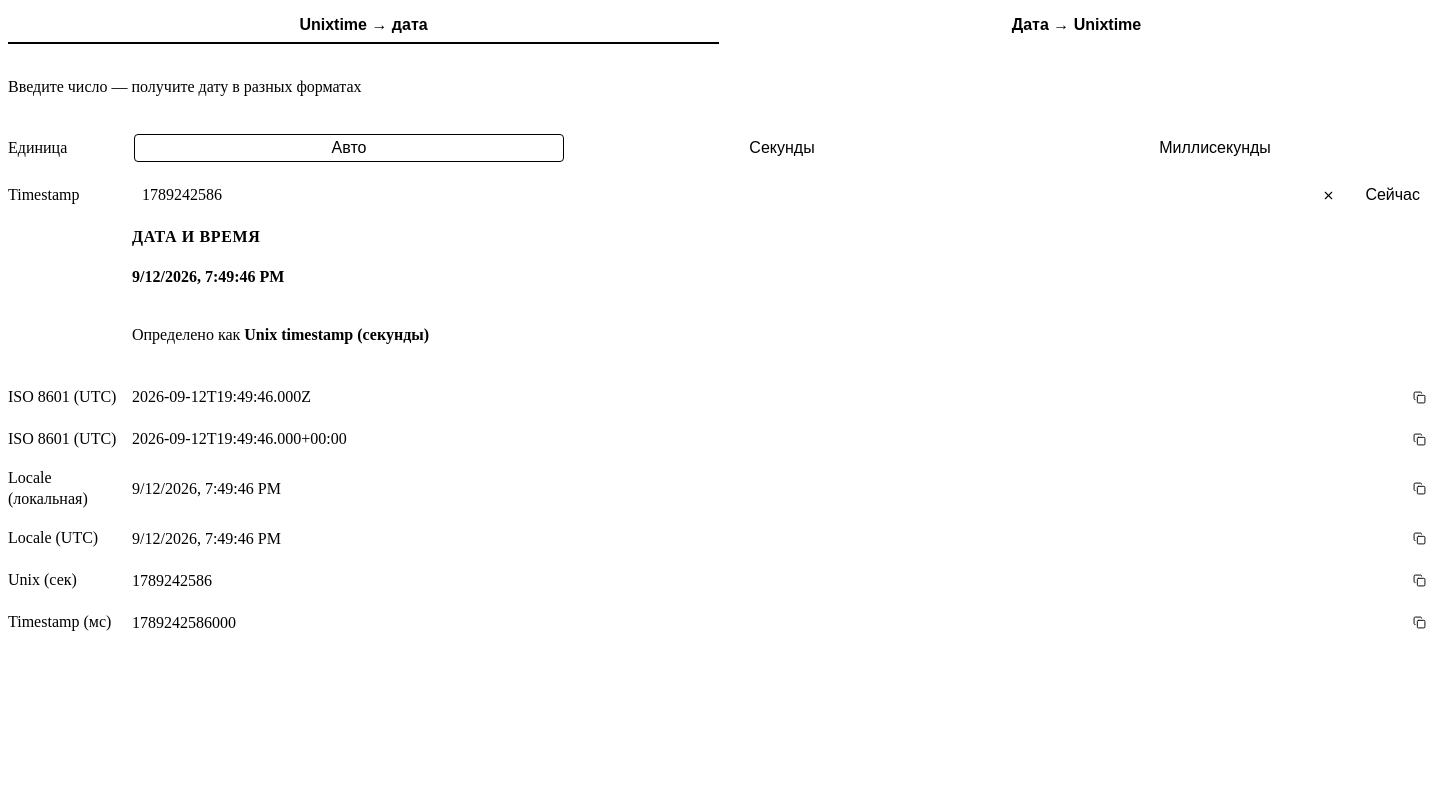
it: UnixtimeConverter › явный выбор единицы перебивает автоопределение
Step 1. Replace the text in the field named "Unix-время" with "1700000000" → [761, 195], box [132,178,1389,212]
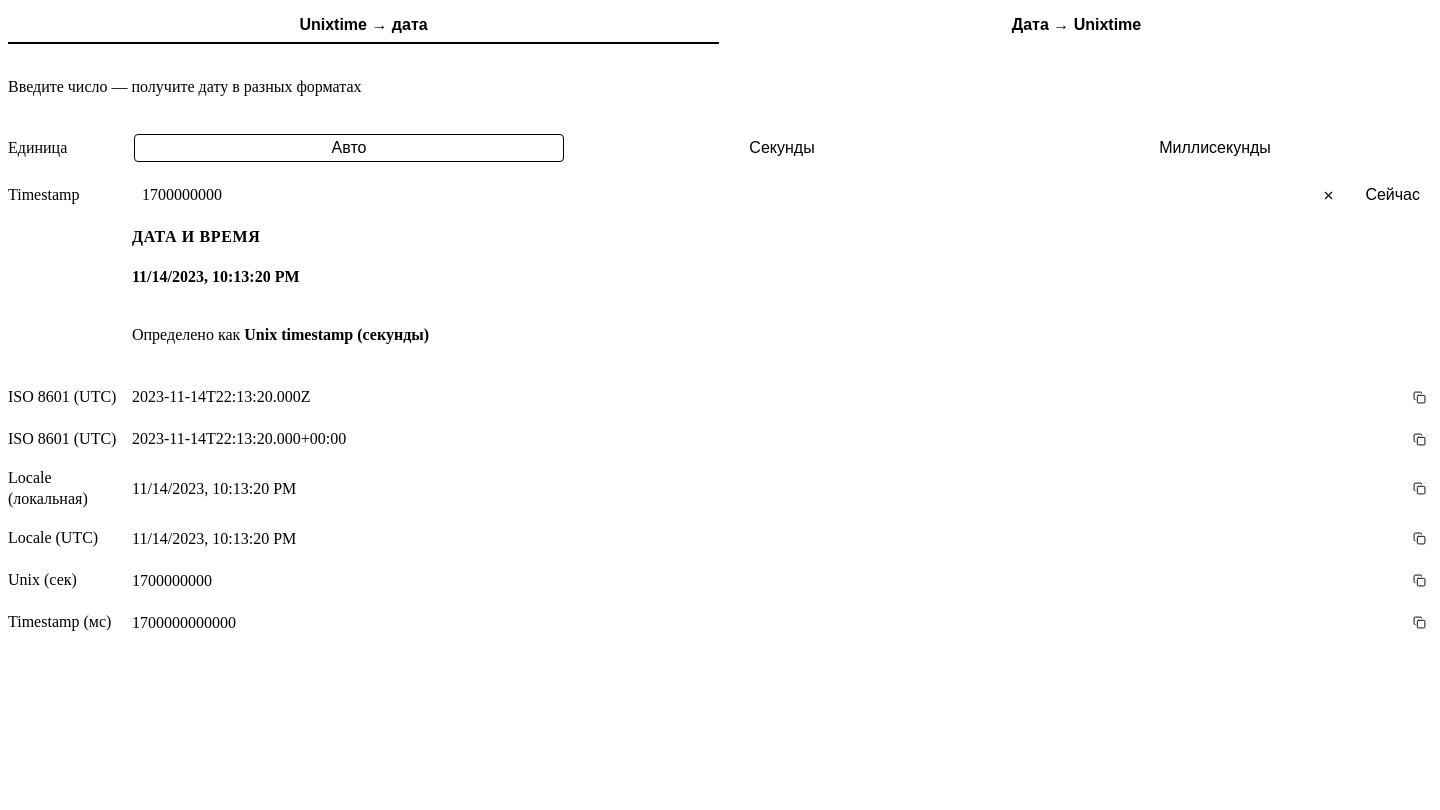
Step 2. Click the button "Миллисекунды" → [1216, 148], box [1001,134,1430,162]
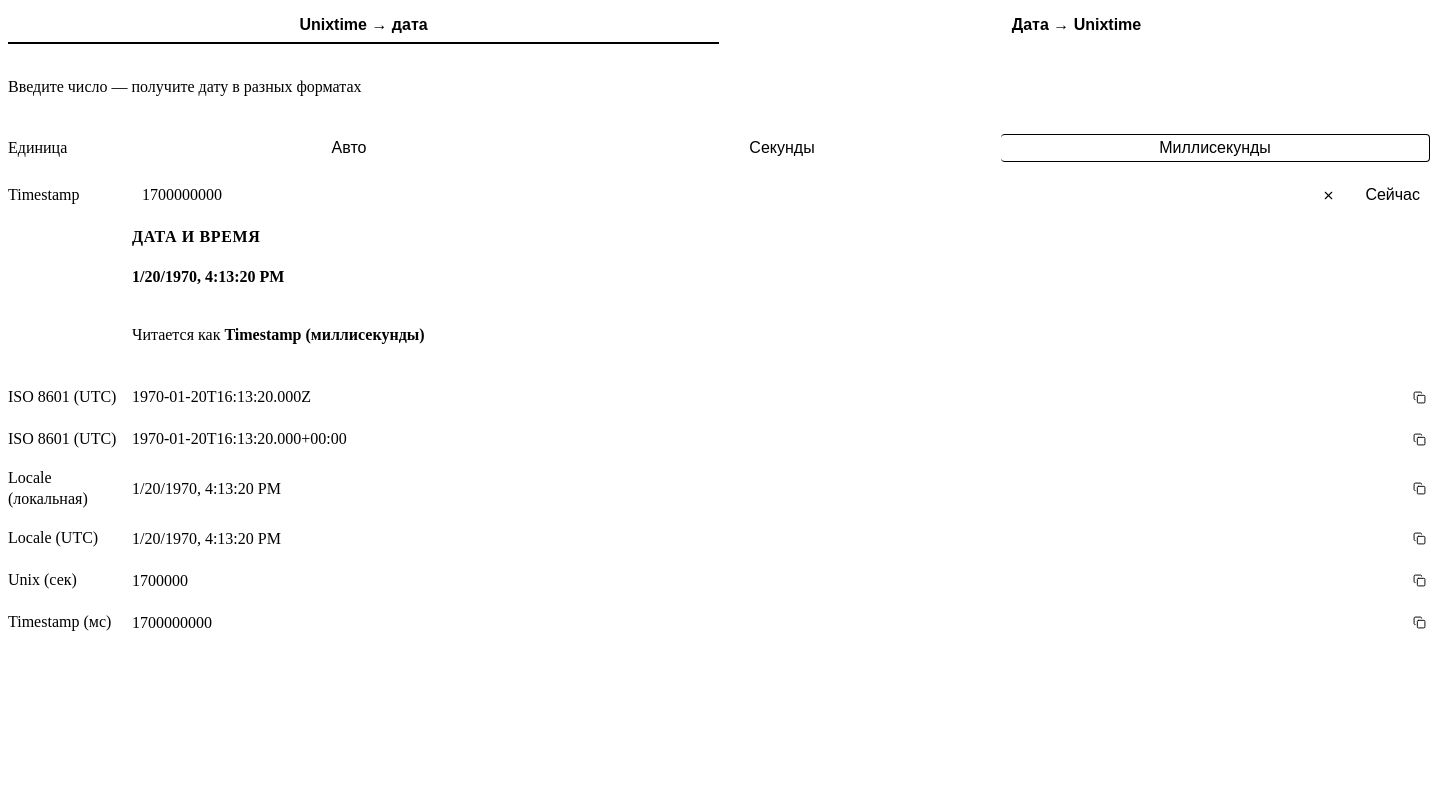
Check: the text "1970-01-20T16:13:20.000Z" is shown, box [132,388,311,405]
